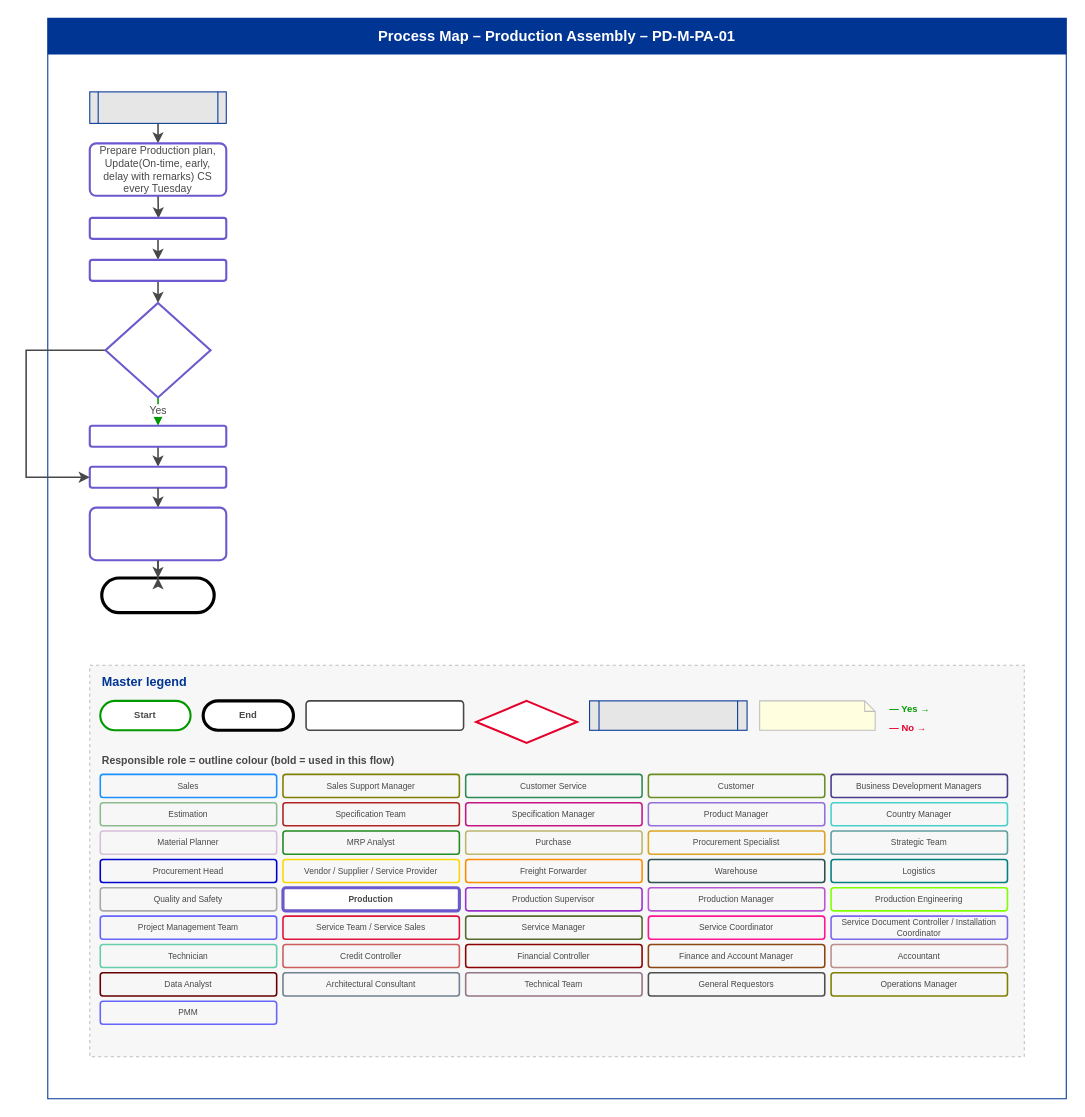
The diagram is 1085 pixels wide and 1117 high, and some of its shapes have lost their labels. Here are the shapes that lost their labels. From the top down, the centre of each, then its label:
At (x=157, y=107): "Production Assembly Ref: PD-M-PA-01".
At (x=157, y=227): "Preparation".
At (x=157, y=269): "Assembly".
At (x=157, y=349): "With Final Assembly?".
At (x=157, y=435): "Final Assembly / Testing".
At (x=157, y=476): "Packing".
At (x=157, y=533): "Produce Production Completion Report (PCR), Notify CS team through SAP & Email".
At (x=157, y=595): "Complete".
At (x=384, y=715): "Activity (outline = role)".
At (x=526, y=721): "Decision".
At (x=668, y=715): "Linked process (Ref ID)".
At (x=817, y=715): "Note / checklist".
